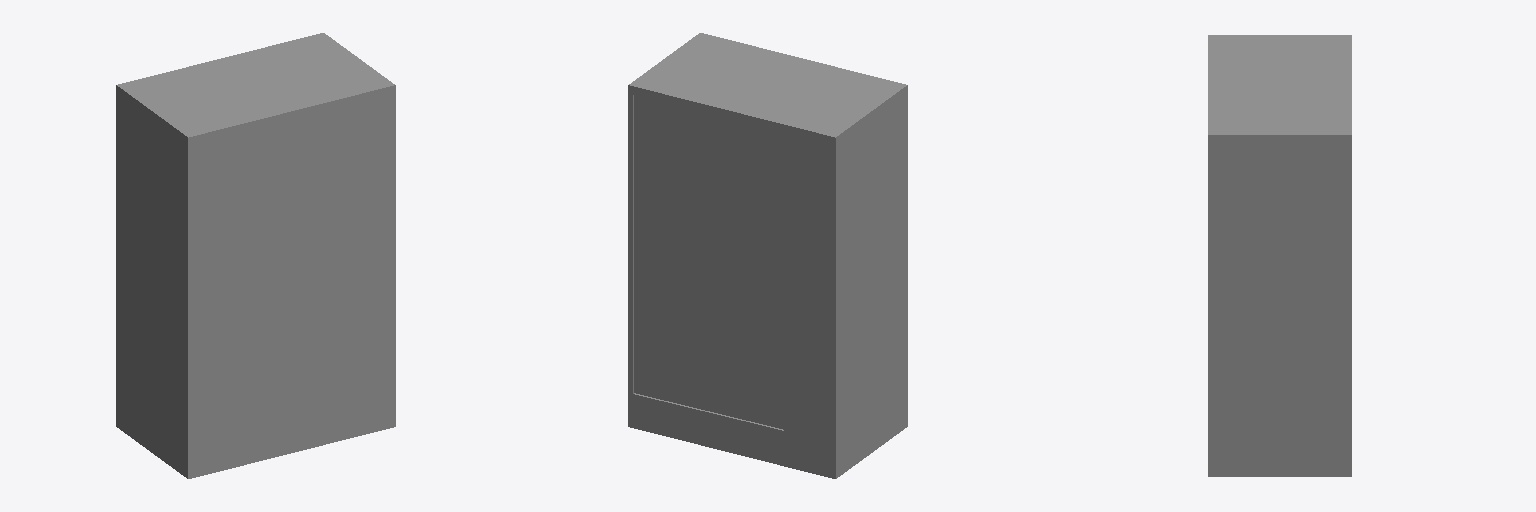
Rendered from vendingMachine.obj.
3 views of the same model, side by side, from view 1: azimuth 30°, elevation 25°; view 2: azimuth 150°, elevation 25°; view 3: azimuth 270°, elevation 25° (orthographic).
Size of the model in its own units: 21.83 by 34.59 by 13.11.